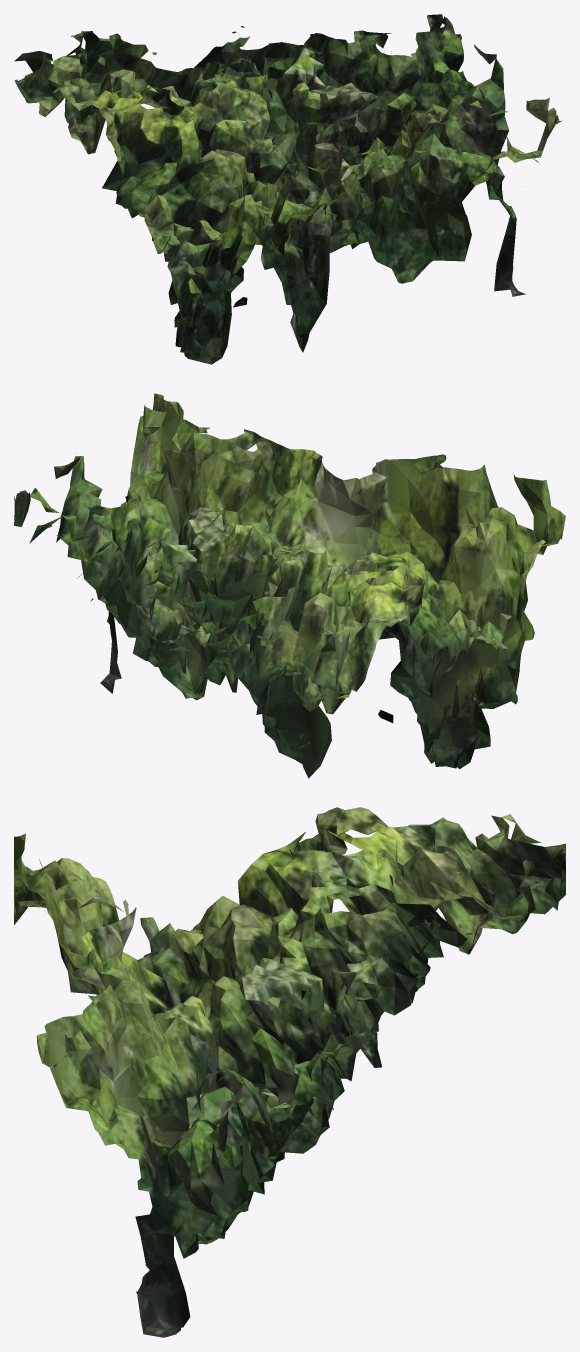
The picture shows the model from 3 angles, top to bottom: view 1: azimuth 30°, elevation 25°; view 2: azimuth 150°, elevation 25°; view 3: azimuth 270°, elevation 25°; orthographic projection. The views are drawn at different scales.
Size of the model in its own units: 52.22 by 34.51 by 52.22.
6 materials, 6 textured.
